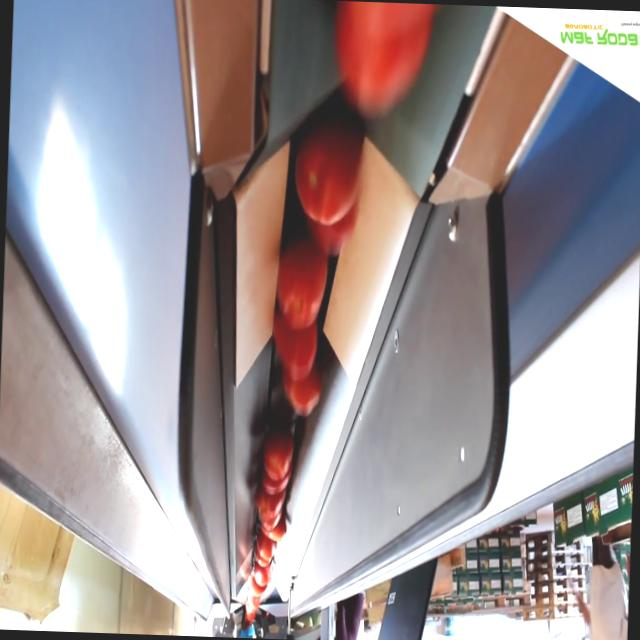Tomato: (337, 5, 429, 112), (292, 127, 364, 222), (274, 250, 329, 330), (270, 313, 317, 377), (284, 370, 324, 412), (264, 437, 292, 479), (256, 485, 284, 526), (256, 540, 274, 564), (252, 568, 270, 590)
